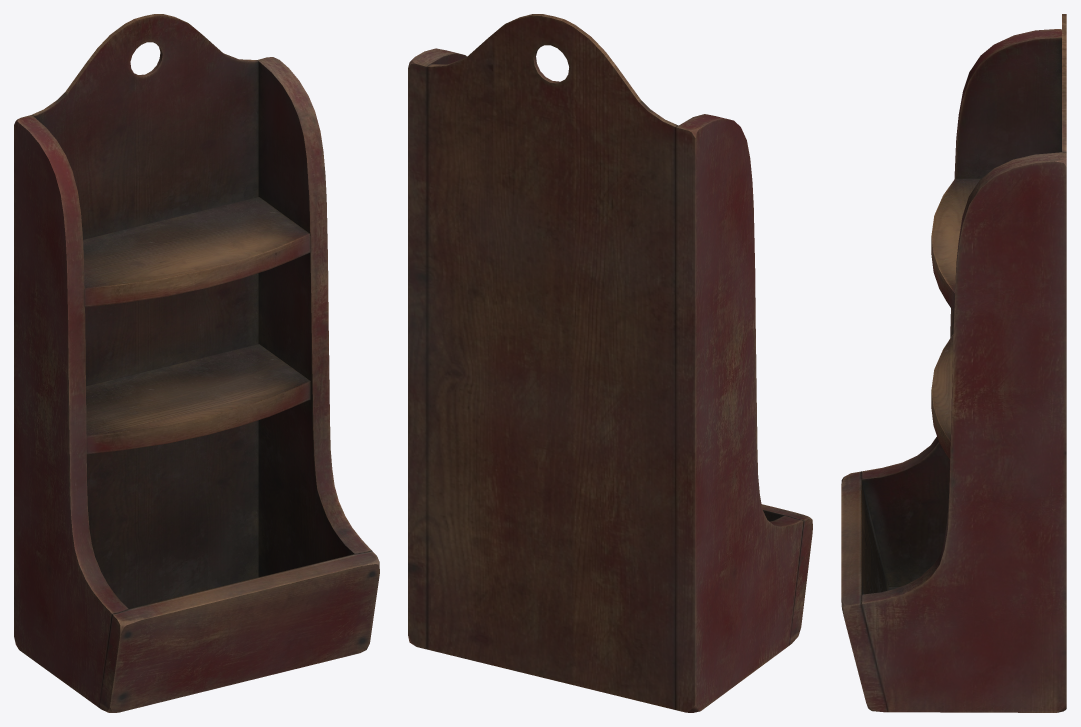
The model's file is painted_wooden_shelves.glb.
3 views of the same model, side by side, from view 1: azimuth 30°, elevation 25°; view 2: azimuth 150°, elevation 25°; view 3: azimuth 270°, elevation 25° (orthographic). The views are drawn at different scales.
Visible parts, largest first — view 1: painted_wooden_shelves; view 2: painted_wooden_shelves; view 3: painted_wooden_shelves.
Boxes of the visible parts, box(x1,y1,x2,y2) form: painted_wooden_shelves: box(14, 14, 379, 712); painted_wooden_shelves: box(408, 14, 812, 712); painted_wooden_shelves: box(841, 14, 1066, 712).
Bounding box in the file's own units: 0.5111 × 1.13 × 0.3671.
Materials: 1 (1 with a texture image).
